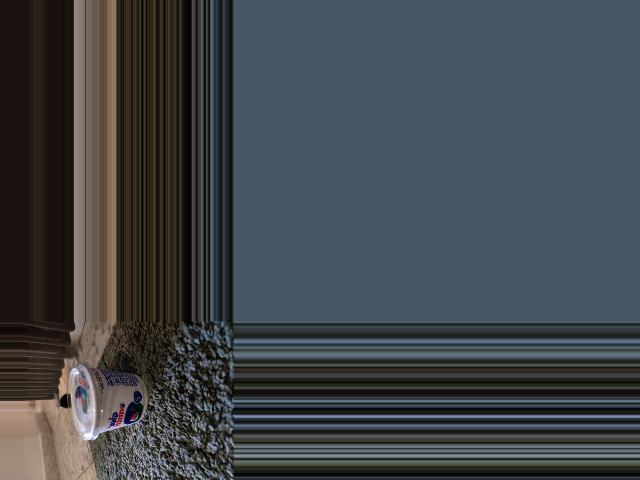cotage: (66, 368, 150, 435)
